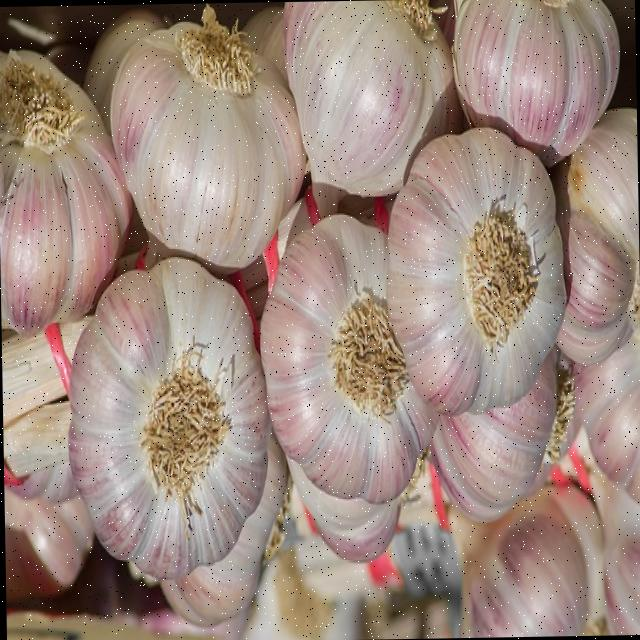garlic: (67, 258, 269, 578), (109, 6, 303, 272), (259, 213, 437, 502), (386, 128, 565, 413), (0, 49, 131, 333), (284, 0, 462, 194), (452, 0, 617, 165), (450, 485, 604, 638), (549, 109, 639, 362), (428, 349, 556, 521), (175, 432, 285, 619), (574, 329, 640, 504), (315, 503, 399, 562)
